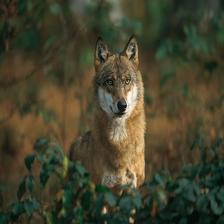WOLF: (87, 33, 146, 187)
